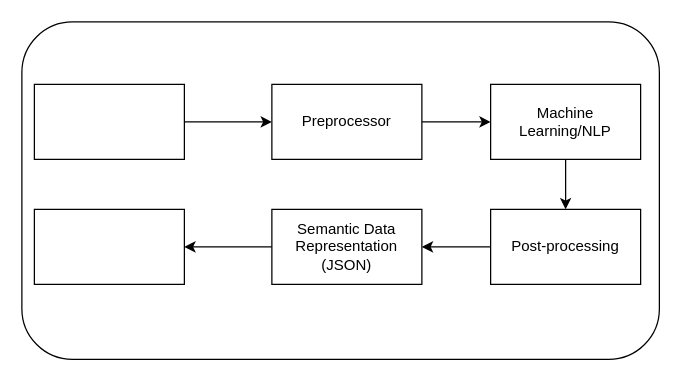
This 681x381 diagram has some shape labels left out. The box of each missing label's shape, as (x1, y1, x2, y2) in pixels:
Input Data: (33, 83, 184, 159)
Visualization: (33, 208, 184, 284)
